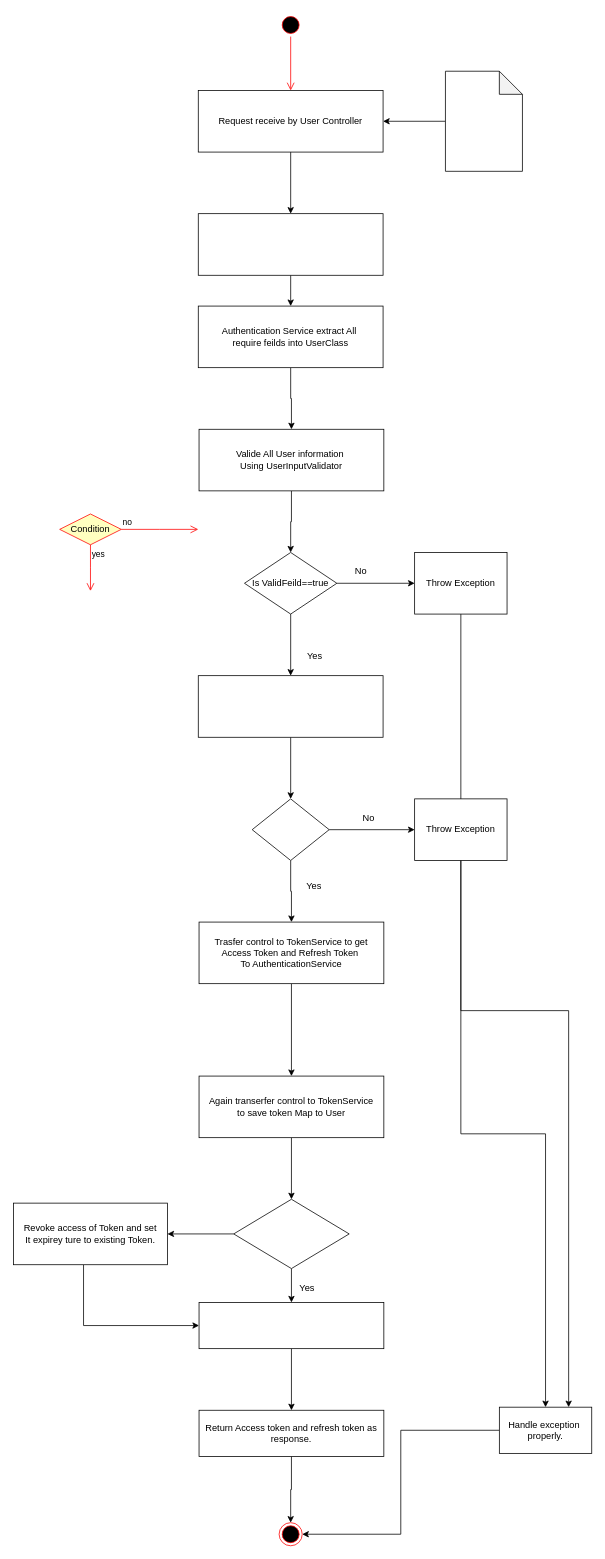
Some shapes in this 605 by 1559 pixel diagram are drawn without their labels. The shapes that lost their labels are listed below. From the top down, each one's centre as x and y in pixels, then its label:
pixel 483 120: RegisterRequest Contain all parameter require to registration.
pixel 290 244: Request forward To AuthenticationService
pixel 290 706: Send control To UserService To register User
pixel 290 829: UserSaved ==True
pixel 291 1234: Have Active Token ==false
pixel 291 1325: Save AccessToken To database Using Token Object.
